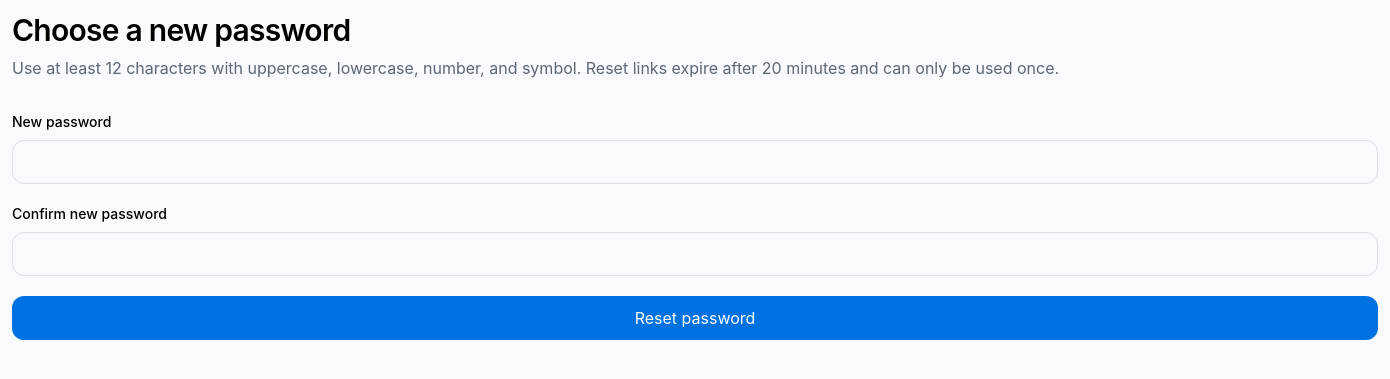
Scenario: validates the full password policy before sending a reset request
Type "NoSymbolPassword456" into the password field labelled "New password" at (695, 162), box [12,140,1378,184]
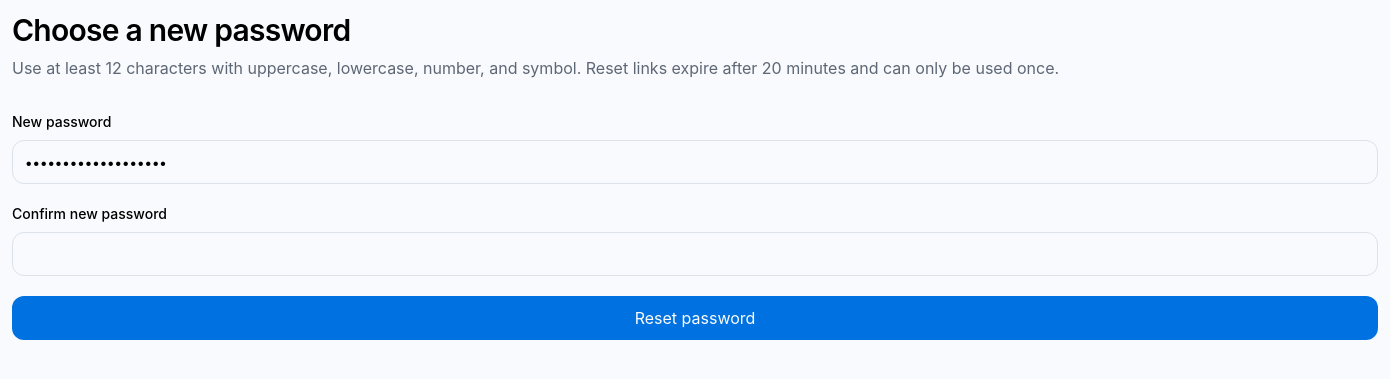
Type "NoSymbolPassword456" into the password field labelled "Confirm new password" at (695, 254), box [12,232,1378,276]
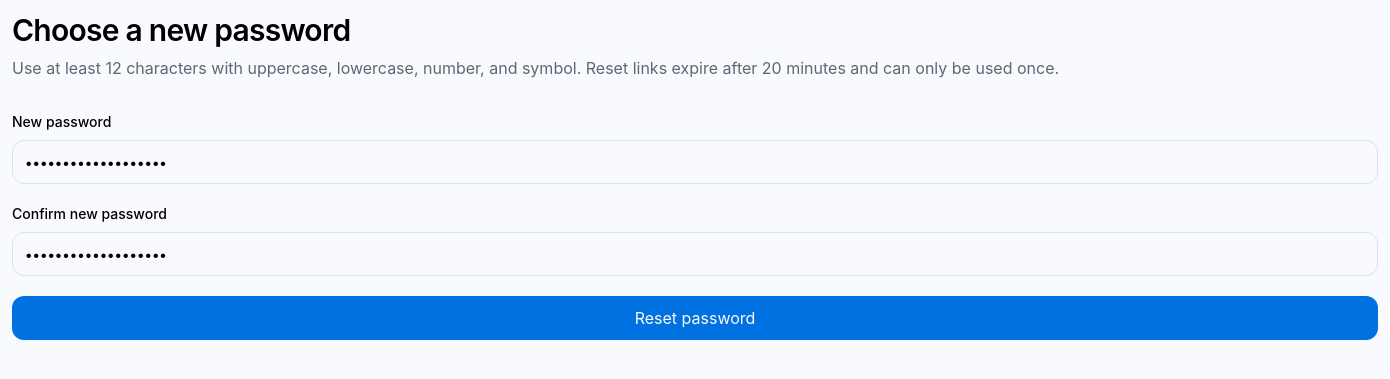
Click the button "Reset password" at (695, 318), box [12,296,1378,340]
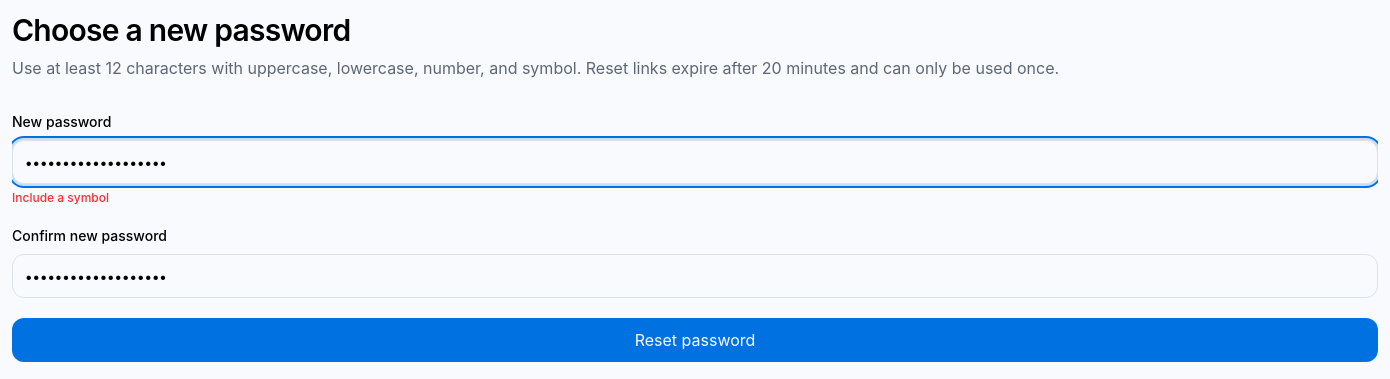
Now the text "Include a symbol" is shown, box [12,190,109,205]
